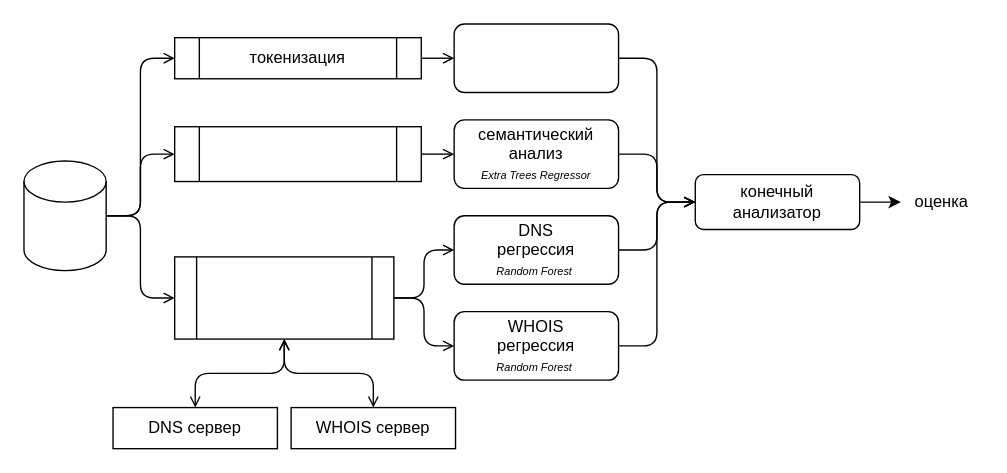
The diagram is 1007 pixels wide and 473 high, and some of its shapes have lost their labels. Here are the shapes that lost their labels. From the top down, the centre of each, then its label:
At point (536, 57): "DGA анализатор LSTM".
At point (297, 153): "предобработка семантики".
At point (64, 215): "Банк данных".
At point (283, 297): "обогащение и предобработка данных".
